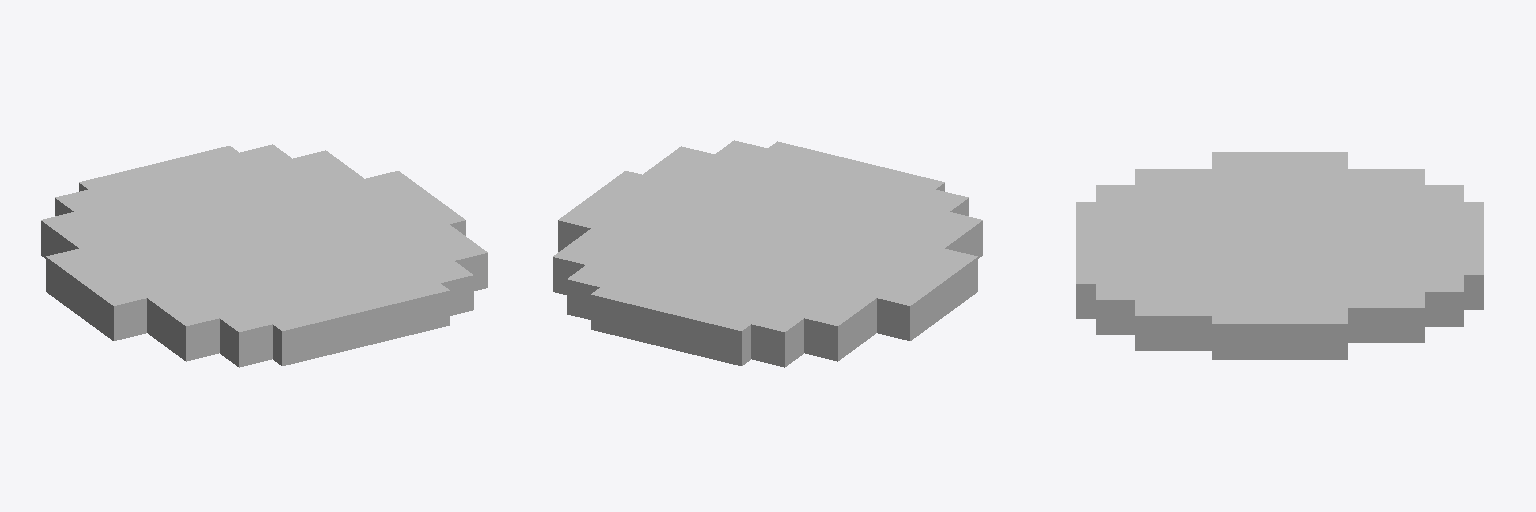
The model's file is Coin2.obj.
3 views of the same model, side by side, from view 1: azimuth 30°, elevation 25°; view 2: azimuth 150°, elevation 25°; view 3: azimuth 270°, elevation 25° (orthographic).
Visible parts, largest first — view 1: object 1; view 2: object 1; view 3: object 1.
Boxes of the visible parts, x1,y1,x2,y2 form: object 1: [41, 144, 487, 367]; object 1: [553, 140, 982, 367]; object 1: [1076, 152, 1483, 359].
Bounding box in the file's own units: 2.1 × 0.2 × 2.1.